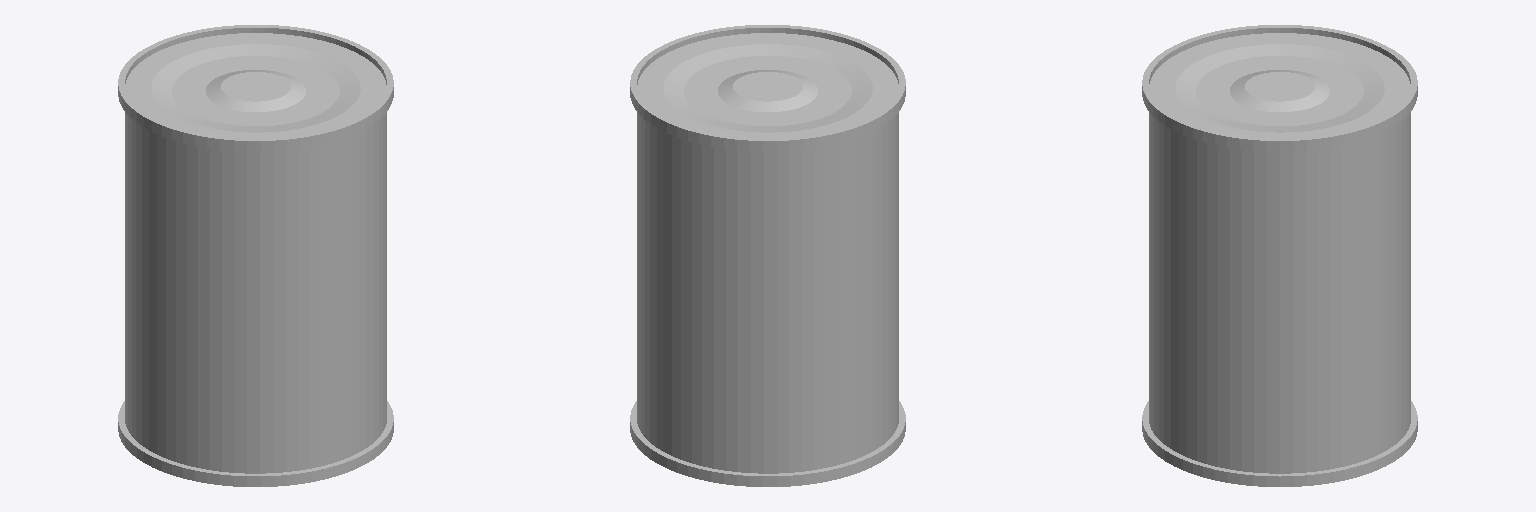
Rendered from CanC.obj.
3 views of the same model, side by side, from view 1: azimuth 30°, elevation 25°; view 2: azimuth 150°, elevation 25°; view 3: azimuth 270°, elevation 25° (orthographic).
Parts seen in each view (by area): view 1: Cylinder; view 2: Cylinder; view 3: Cylinder.
Boxes of the visible parts, box(x1,y1,x2,y2) form: Cylinder: box(118, 25, 393, 486); Cylinder: box(630, 25, 905, 486); Cylinder: box(1142, 25, 1417, 486).
Size of the model in its own units: 2.31 by 3.2 by 2.31.